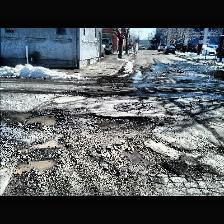pothole: (103, 138, 172, 174), (90, 112, 156, 132), (7, 109, 65, 127), (15, 155, 59, 172), (30, 132, 68, 150), (62, 91, 90, 97)
